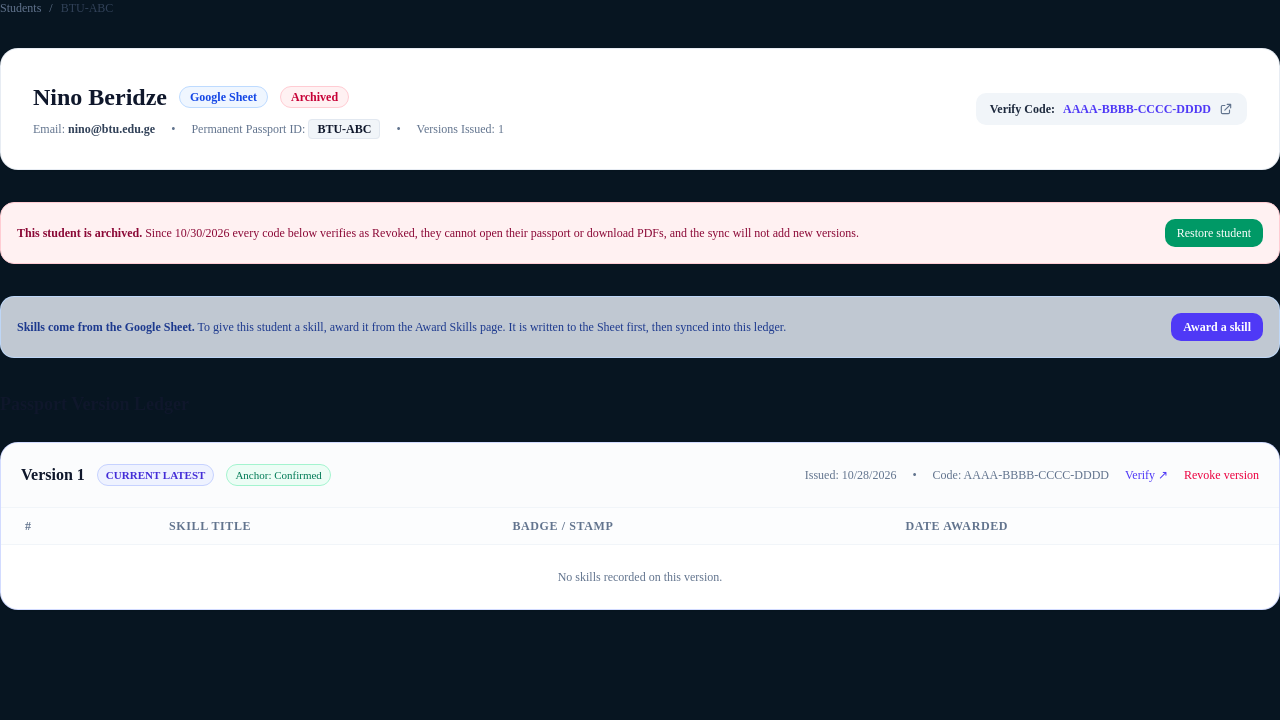
Test: admin student detail revocation controls › does nothing when the admin cancels the confirm
This screenshot has width=1280, height=720.
Check: the message with test id "archived-banner" is shown, box [0,202,1279,264]
Click the button "Restore student" at (1214, 233), box [1165,219,1263,247]
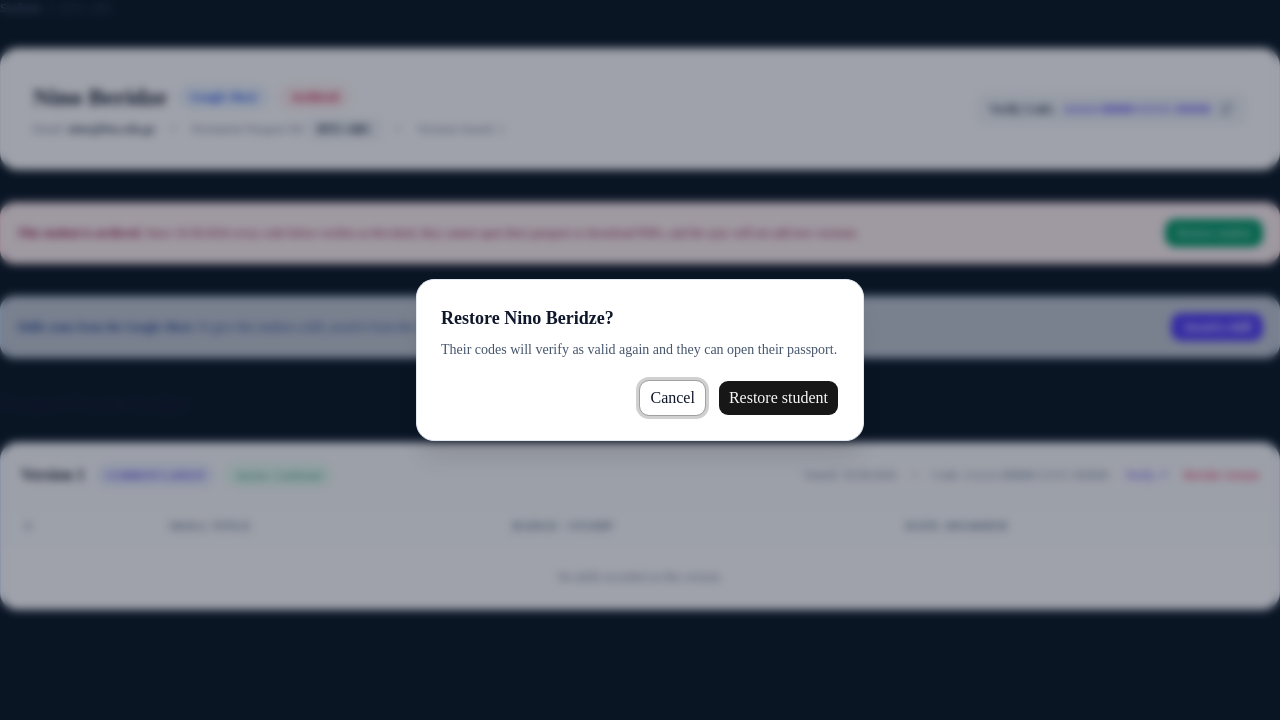
Click the button "Cancel" at (673, 398), box [640,380,706,416]
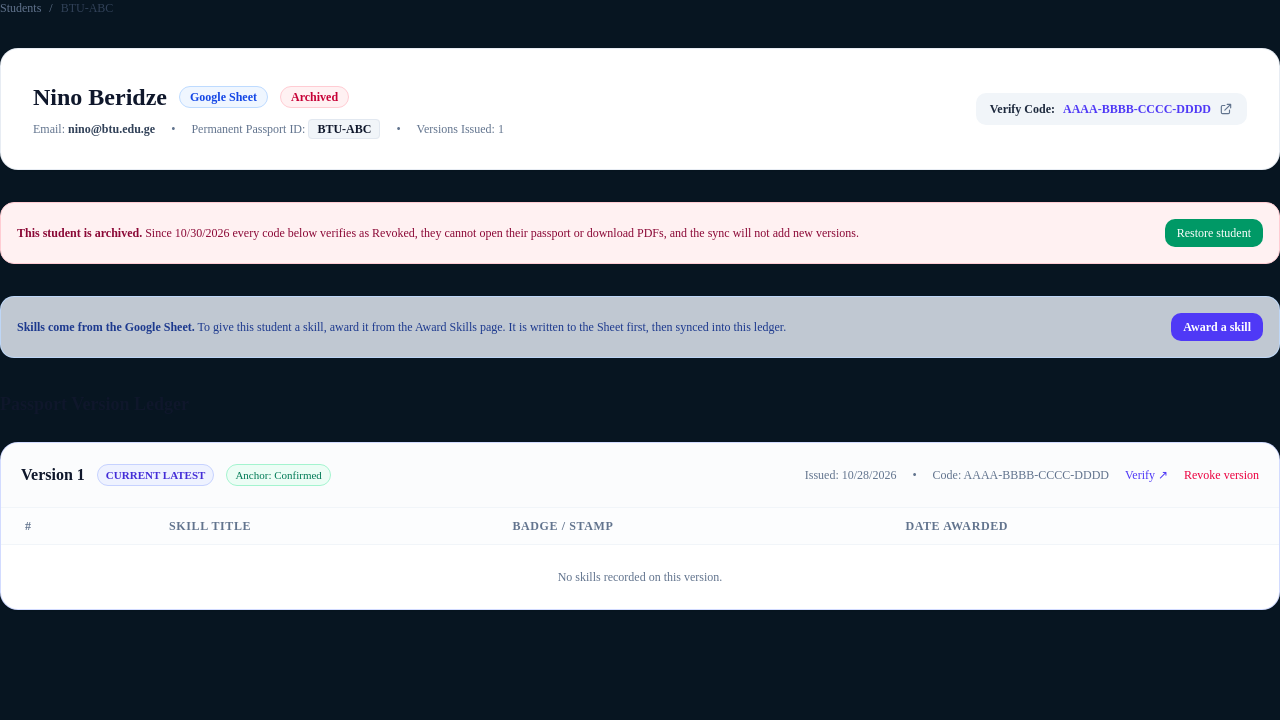
Check: the dialog is gone
